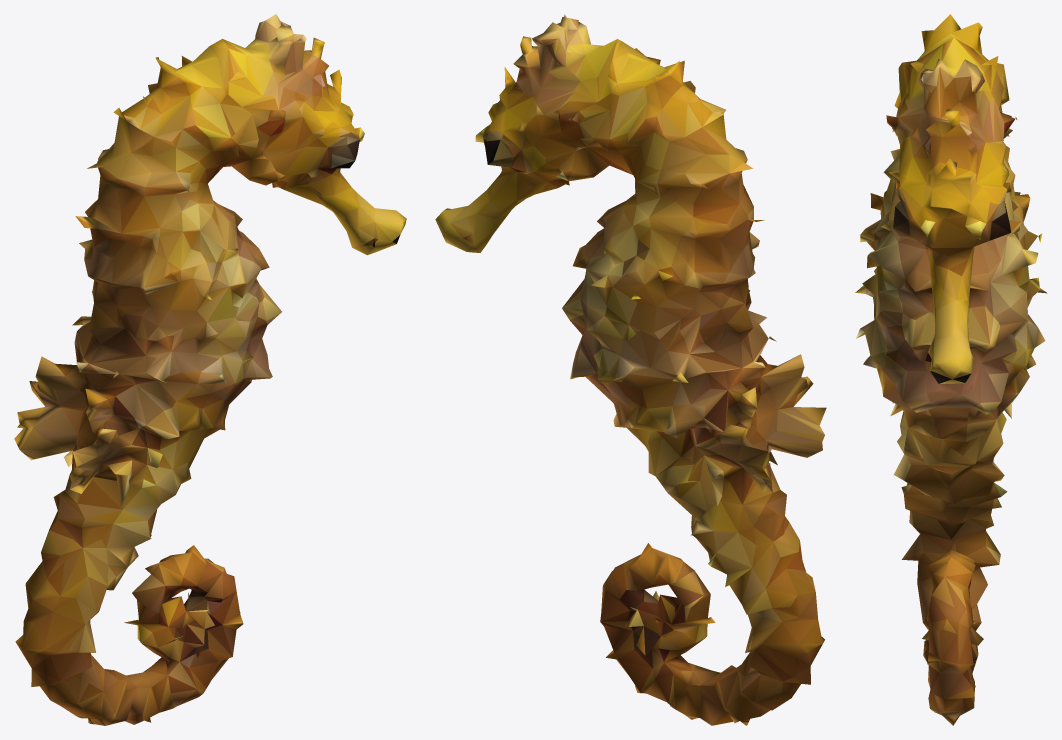
Rendered from seahorse.glb.
3 views of the same model, side by side, from view 1: azimuth 30°, elevation 25°; view 2: azimuth 150°, elevation 25°; view 3: azimuth 270°, elevation 25° (orthographic). The views are drawn at different scales.
Visible parts, largest first — view 1: geometry_0; view 2: geometry_0; view 3: geometry_0.
Part boxes in pixels (left/top/right/bottom): geometry_0: left=14, top=14, right=406, bottom=725; geometry_0: left=435, top=14, right=826, bottom=725; geometry_0: left=855, top=14, right=1047, bottom=725.
Bounding box in the file's own units: 0.0476 × 0.08 × 0.0194.
Materials: 1 (1 with a texture image).
